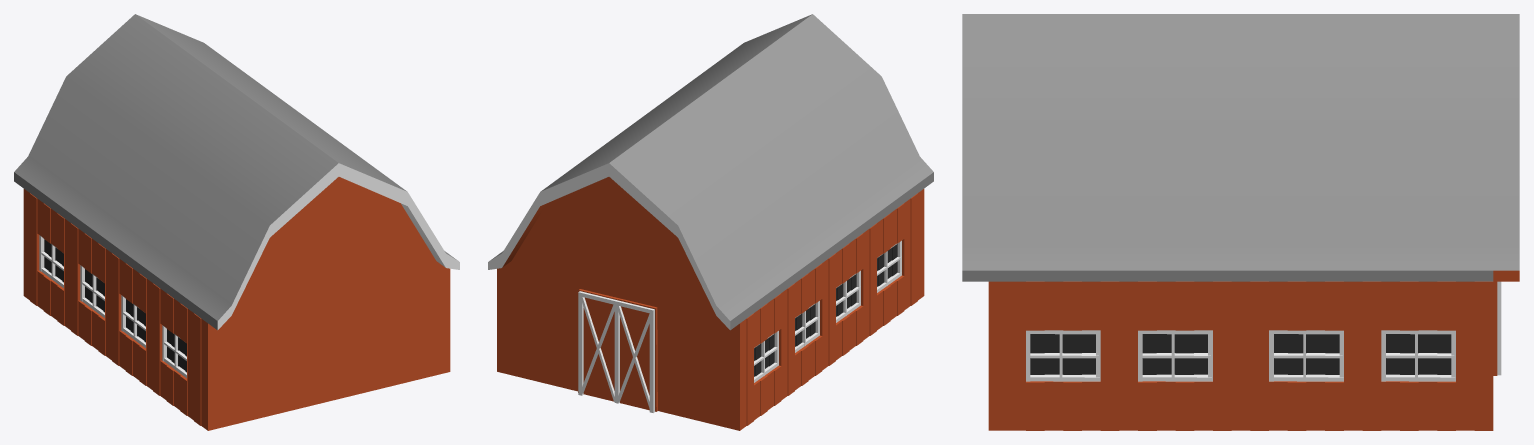
The model's file is Barn.gltf.
3 views of the same model, side by side, from view 1: azimuth 30°, elevation 25°; view 2: azimuth 150°, elevation 25°; view 3: azimuth 270°, elevation 25° (orthographic). The views are drawn at different scales.
Parts seen in each view (by area): view 1: node-0; view 2: node-0; view 3: node-0.
Boxes of the visible parts, x1,y1,x2,y2 form: node-0: [14, 14, 459, 430]; node-0: [488, 14, 933, 430]; node-0: [962, 14, 1519, 430].
Size of the model in its own units: 274312 by 264705 by 397539.
